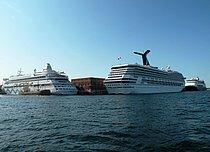Ship: (103, 48, 189, 97), (3, 63, 81, 98)
